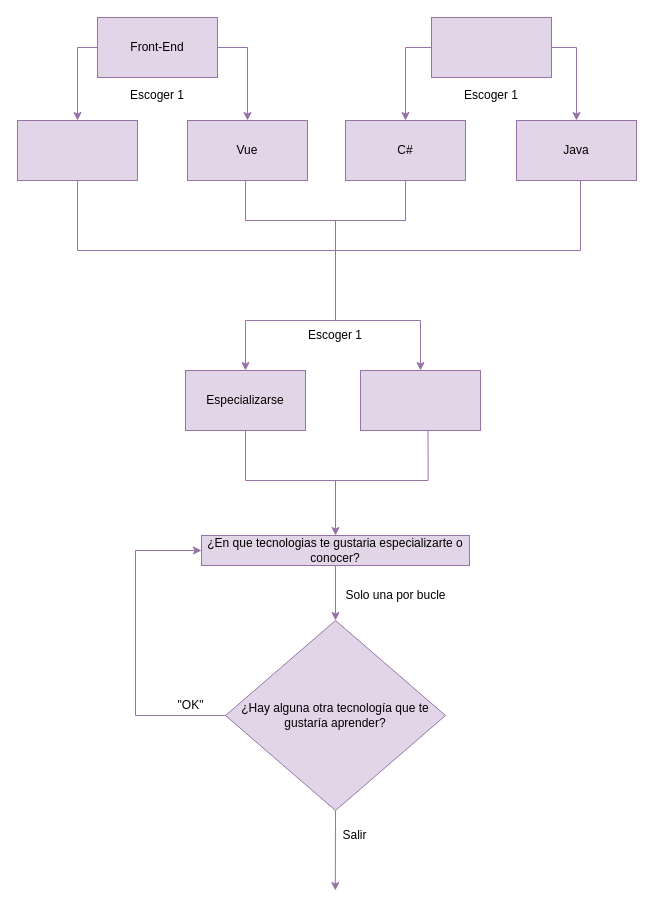
Image size: 654x916. Some labels were removed from this diagram. The shapes that lost their labels are listed below. From the top down, each one's centre as x and y in pixels, then its label:
At (491,47): "Back-End".
At (77,150): "React".
At (420,400): "Convertirse FullStack".
